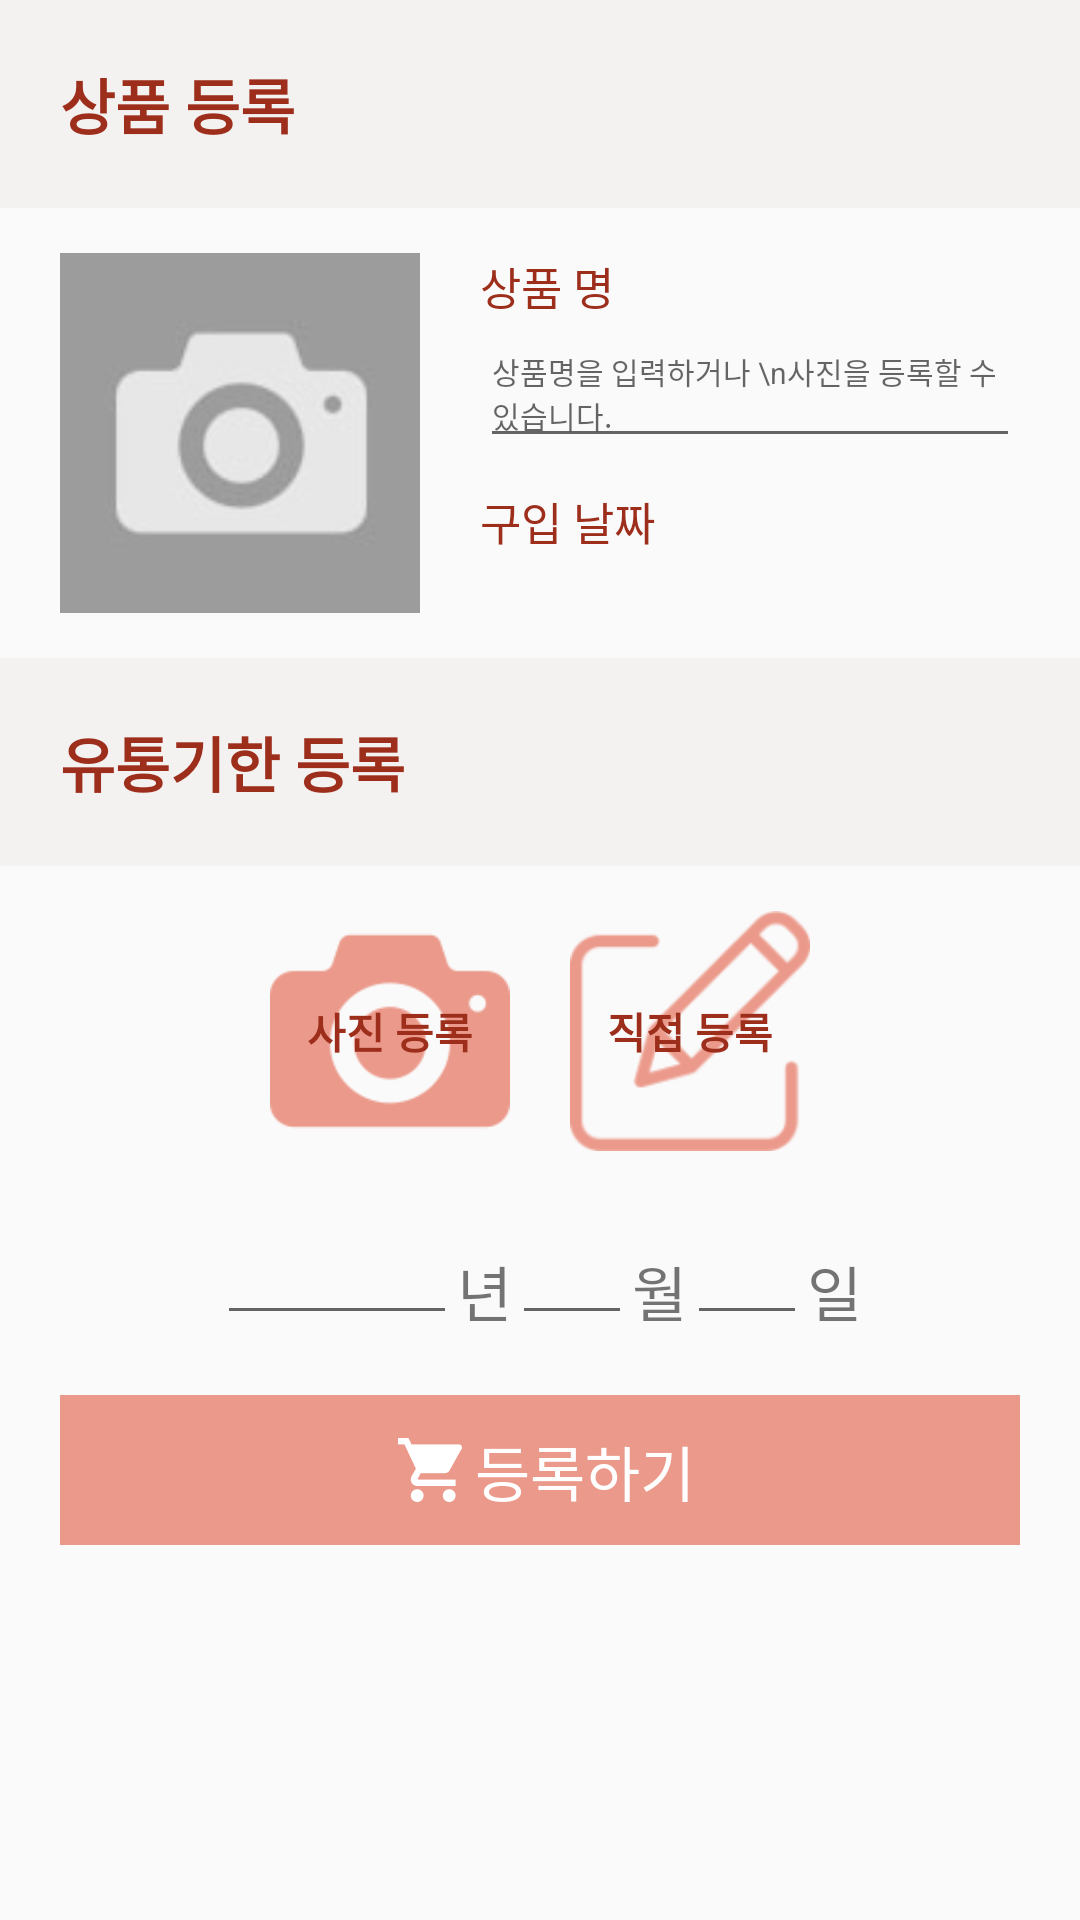

Named icons in this screenshot (1080px x 1920px) and their centers, (x,y):
basket: (430,1470)
